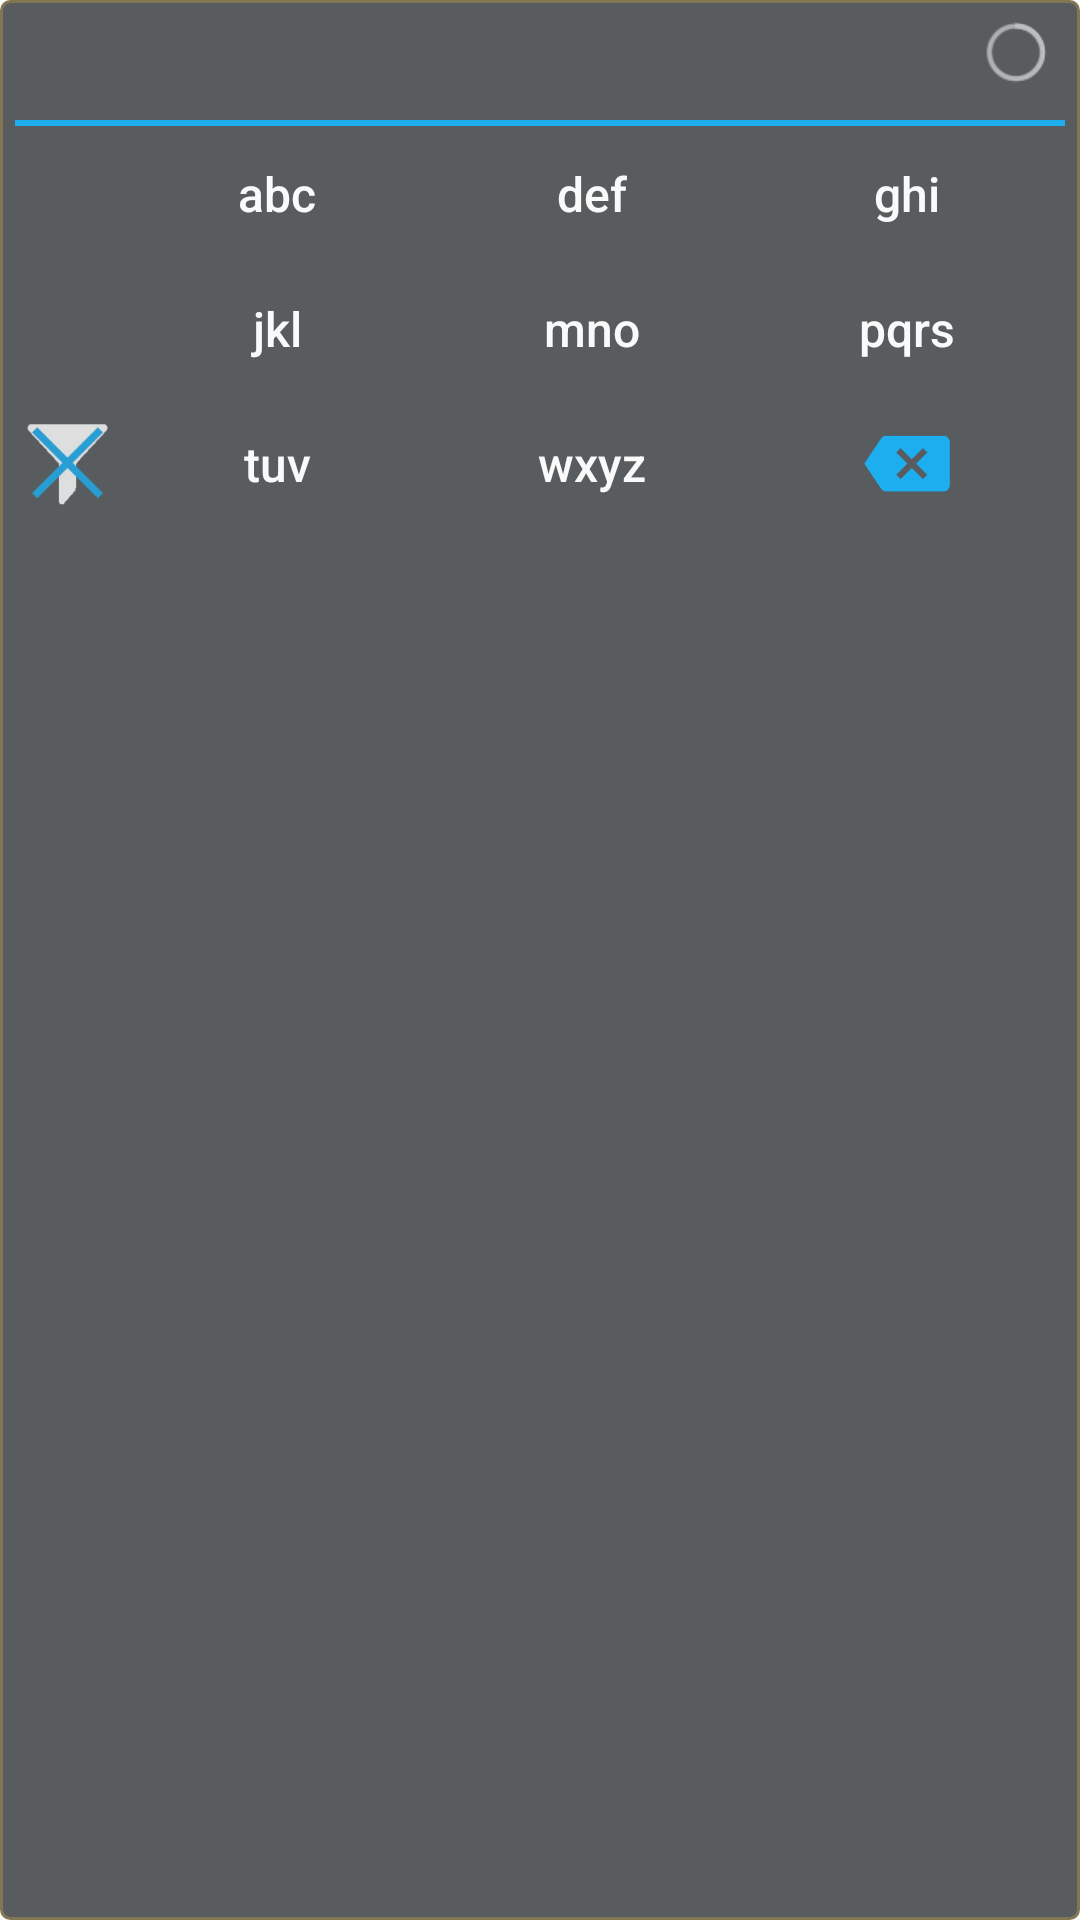

Screen size 1080×1920. Icon name, then its center in pixels as [x,y]:
backspace arrow: [907,464]
filter all theme: [67,464]
